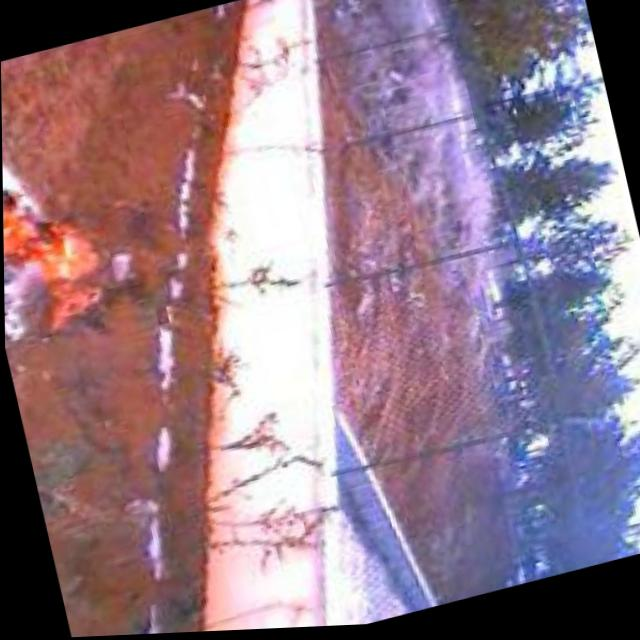Fire: (2, 164, 110, 343)
